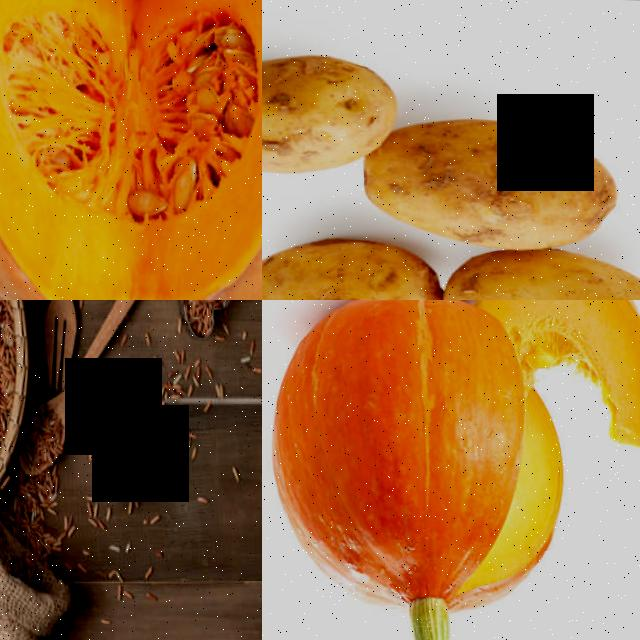potato: (367, 118, 619, 252), (262, 44, 373, 175), (436, 248, 640, 300), (262, 241, 439, 300)
pumpkin: (262, 300, 543, 623), (0, 0, 262, 300), (522, 300, 640, 459)
red rice: (96, 411, 157, 494), (15, 409, 63, 472), (185, 300, 223, 332)
